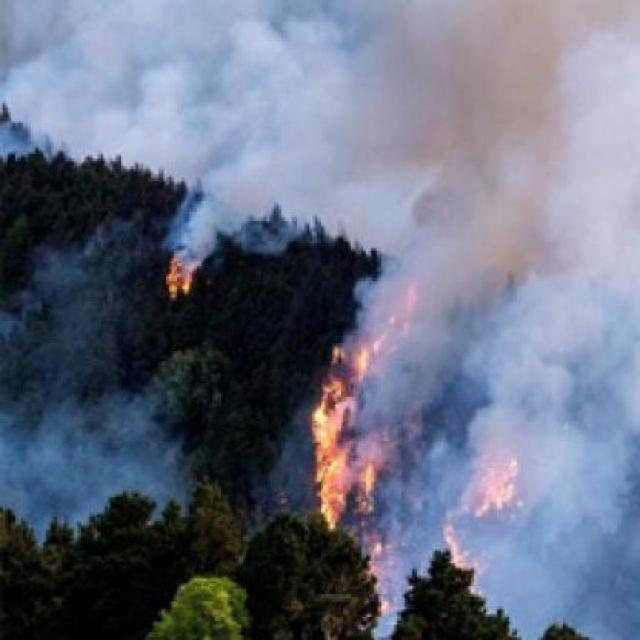Fire: (264, 282, 402, 543), (420, 440, 516, 616), (134, 192, 223, 320)
Smoke: (402, 0, 639, 427)
